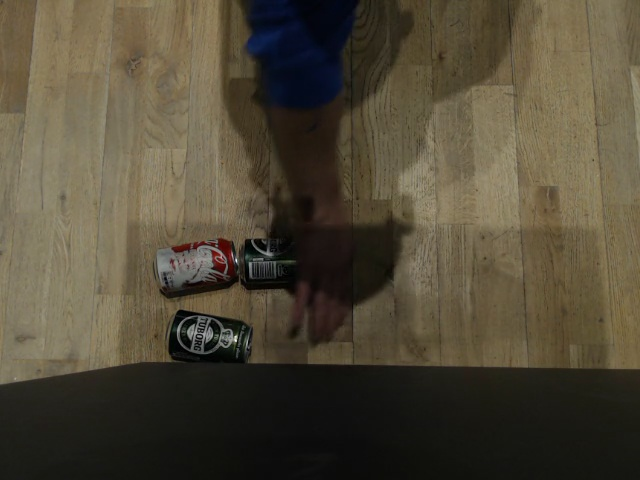beer: (160, 310, 255, 364)
cola: (131, 232, 223, 294)
